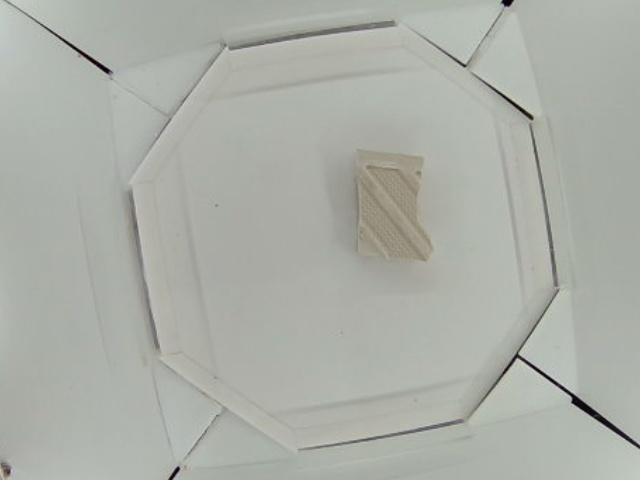China: (353, 150, 437, 263)
